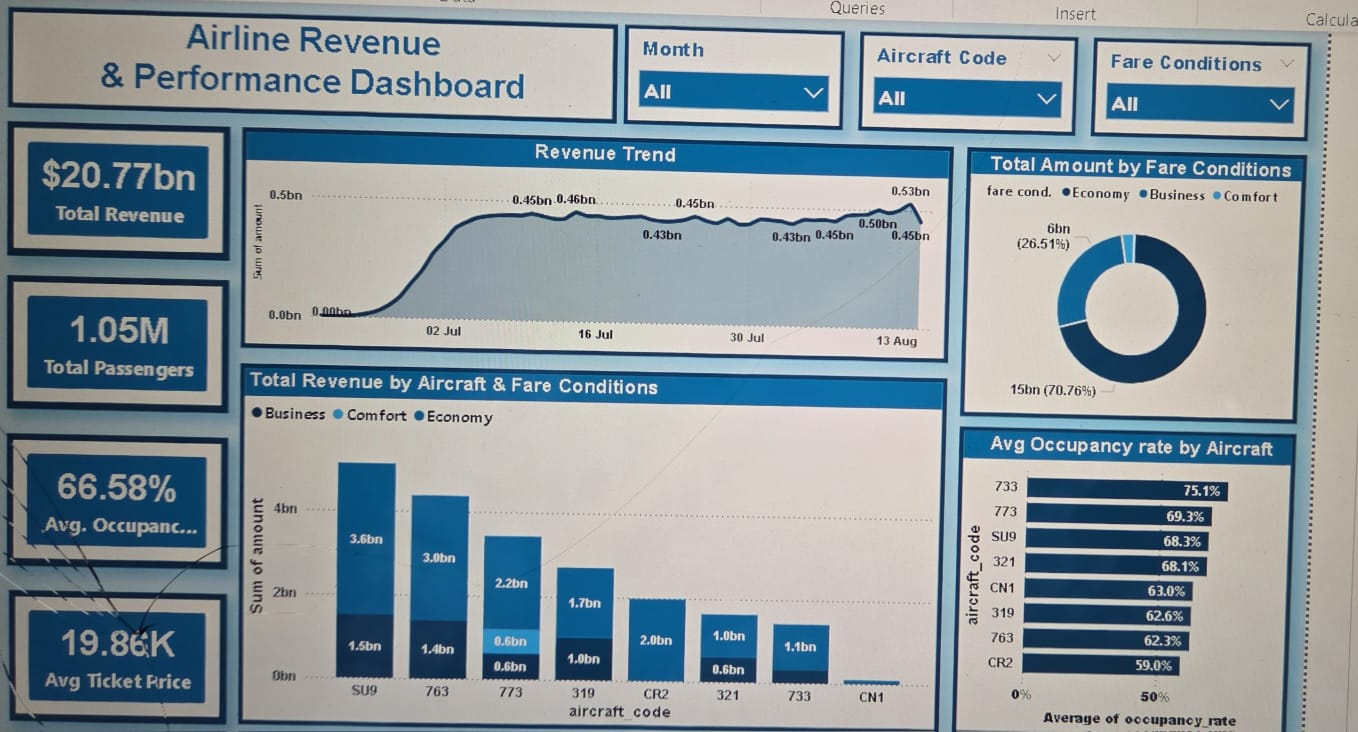

This screenshot's page, from the dashboard's own definition file:
{"tool":"powerbi","page":{"name":"Page 1","canvas":[1280,720],"ordinal":0},"visuals":[{"type":"textbox","box":[0,0,1280.8,720.6],"z":0},{"type":"textbox","box":[14.6,11.3,578.1,95.5],"z":1000},{"type":"cardVisual","fields":{"Data":["Sum(final_airline_dataset.amount)"]},"box":[14.6,119.8,210.5,127.9],"z":2000},{"type":"cardVisual","fields":{"Data":["final_airline_dataset.Avg_ticket_price"]},"box":[16.2,571.6,208.9,127.9],"z":3000},{"type":"cardVisual","fields":{"Data":["CountNonNull(final_airline_dataset.book_count)"]},"box":[14.6,267.2,210.5,127.9],"z":4000},{"type":"cardVisual","fields":{"Data":["Avg(final_airline_dataset.occupancy_rate)"]},"box":[14.6,419.4,210.5,127.9],"z":5000},{"type":"slicer","fields":{"Values":["final_airline_dataset.aircraft_code"]},"box":[825.8,11.3,212.1,95.5],"z":6000},{"type":"slicer","fields":{"Values":["final_airline_dataset.fare_conditions"]},"box":[1052.5,11.3,212.1,95.5],"z":7000},{"type":"slicer","fields":{"Values":["final_airline_dataset.book_date.Variation.Date Hierarchy.Month"]},"box":[599.1,11.3,212.1,95.5],"z":8000},{"type":"donutChart","title":"Total Amount by Fare Conditions","fields":{"Y":["Sum(final_airline_dataset.amount)"],"Category":["final_airline_dataset.fare_conditions"]},"box":[932.7,119.8,331.9,263.9],"z":9000},{"type":"columnChart","title":"Total Revenue by Aircraft & Fare Conditions","fields":{"Category":["final_airline_dataset.aircraft_code"],"Y":["Sum(final_airline_dataset.amount)"],"Series":["final_airline_dataset.fare_conditions"]},"box":[236.4,346.5,683.3,353],"z":10000},{"type":"clusteredBarChart","title":"Avg Occupancy rate by Aircraft","fields":{"Category":["final_airline_dataset.aircraft_code"],"Y":["Avg(final_airline_dataset.occupancy_rate)"]},"box":[932.7,393.5,331.9,306],"z":11000},{"type":"lineChart","title":"Revenue Trend","fields":{"Y":["Sum(final_airline_dataset.amount)"],"Category":["final_airline_dataset.book_date.Variation.Date Hierarchy.Year","final_airline_dataset.book_date.Variation.Date Hierarchy.Quarter","final_airline_dataset.book_date.Variation.Date Hierarchy.Month","final_airline_dataset.book_date.Variation.Date Hierarchy.Day"]},"box":[236.4,119.8,683.3,212.1],"z":12000}]}

Visuals, with their boxes in screenshot pixels (x1, y1, x2, y2):
textbox: <region>11, 18, 1295, 731</region>
textbox: <region>25, 29, 605, 125</region>
cardVisual - Sum(final_airline_dataset.amount): <region>25, 138, 236, 266</region>
cardVisual - final_airline_dataset.Avg_ticket_price: <region>27, 591, 236, 719</region>
cardVisual - CountNonNull(final_airline_dataset.book_count): <region>25, 286, 236, 414</region>
cardVisual - Avg(final_airline_dataset.occupancy_rate): <region>25, 438, 236, 566</region>
slicer - final_airline_dataset.aircraft_code: <region>839, 29, 1051, 125</region>
slicer - final_airline_dataset.fare_conditions: <region>1066, 29, 1279, 125</region>
slicer - final_airline_dataset.book_date.Variation.Date Hierarchy.Month: <region>611, 29, 824, 125</region>
"Total Amount by Fare Conditions" donutChart: <region>946, 138, 1279, 402</region>
"Total Revenue by Aircraft & Fare Conditions" columnChart: <region>248, 365, 933, 719</region>
"Avg Occupancy rate by Aircraft" clusteredBarChart: <region>946, 412, 1279, 719</region>
"Revenue Trend" lineChart: <region>248, 138, 933, 350</region>
